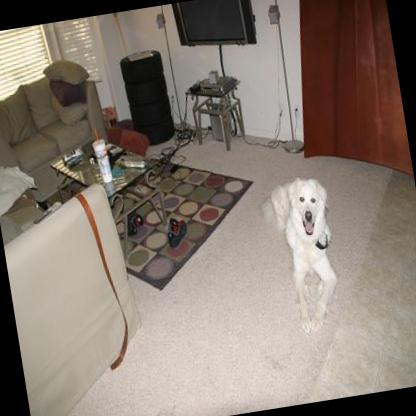Great_Pyrenees: (256, 172, 348, 338)
